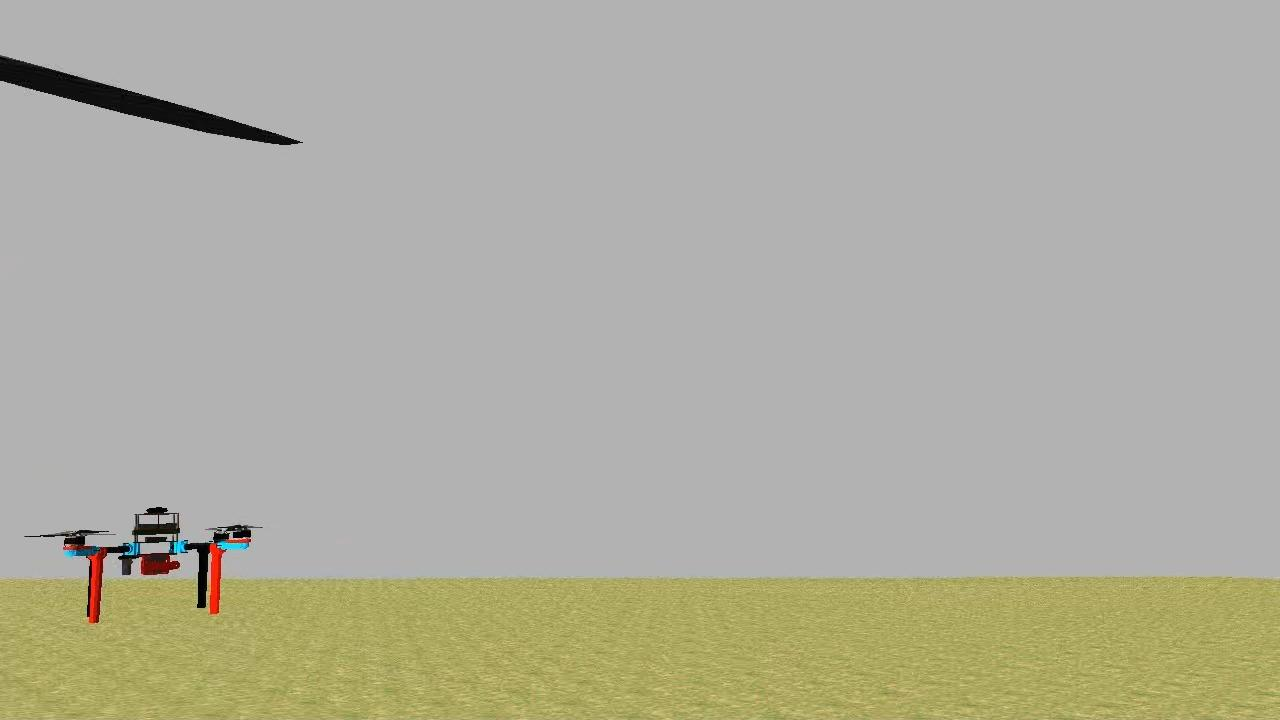UAV: (56, 506, 256, 630)
